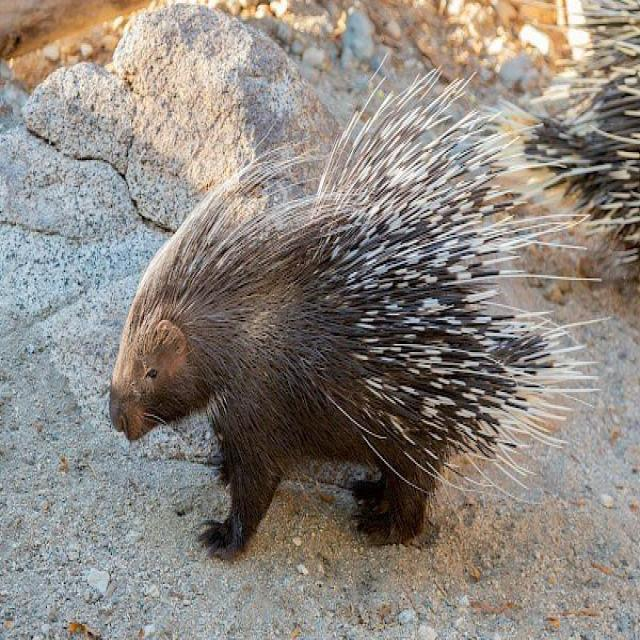Porcupine: (109, 116, 488, 542)
